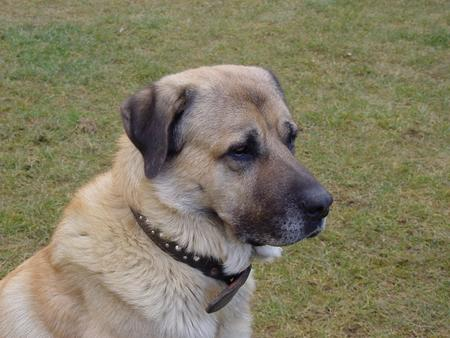kangal: (0, 63, 332, 338)
